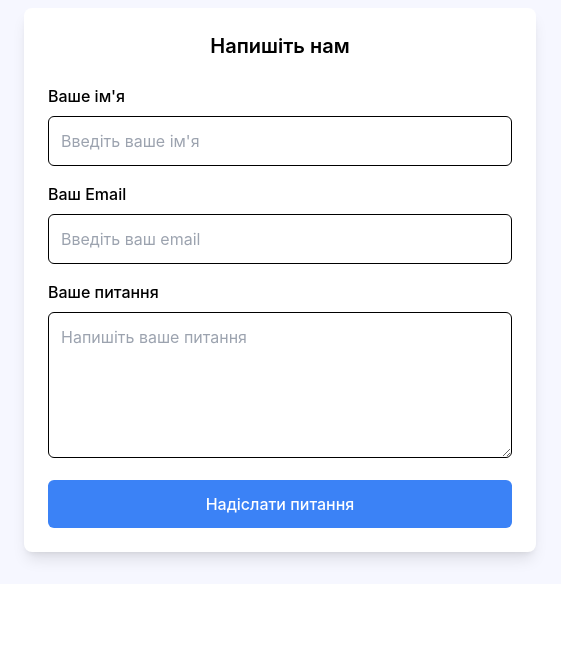
it: Компонент QuestionsForm › показує помилки при некоректному заповненні форми
Click the button "Надіслати питання" at x=280, y=504, box [48,480,512,528]
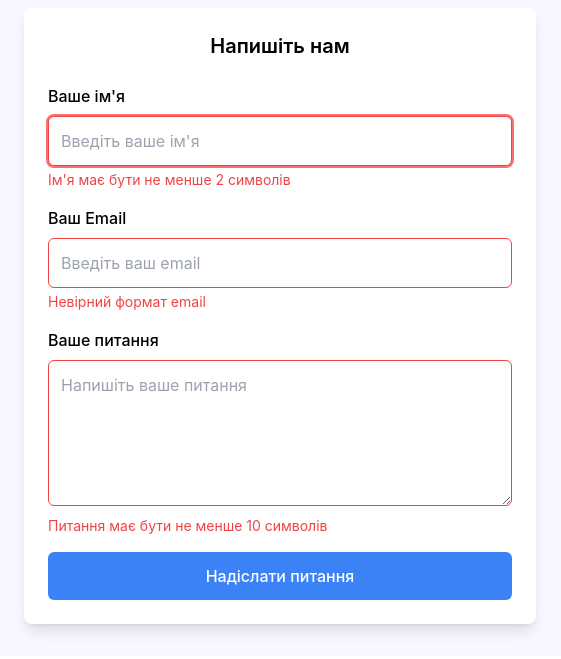
Now the text "Ім'я має бути не менше 2 символів" is shown, box [48,171,291,188]
Now the text "Невірний формат email" is shown, box [48,293,206,310]
Now the text "Питання має бути не менше 10 символів" is shown, box [48,517,328,534]
